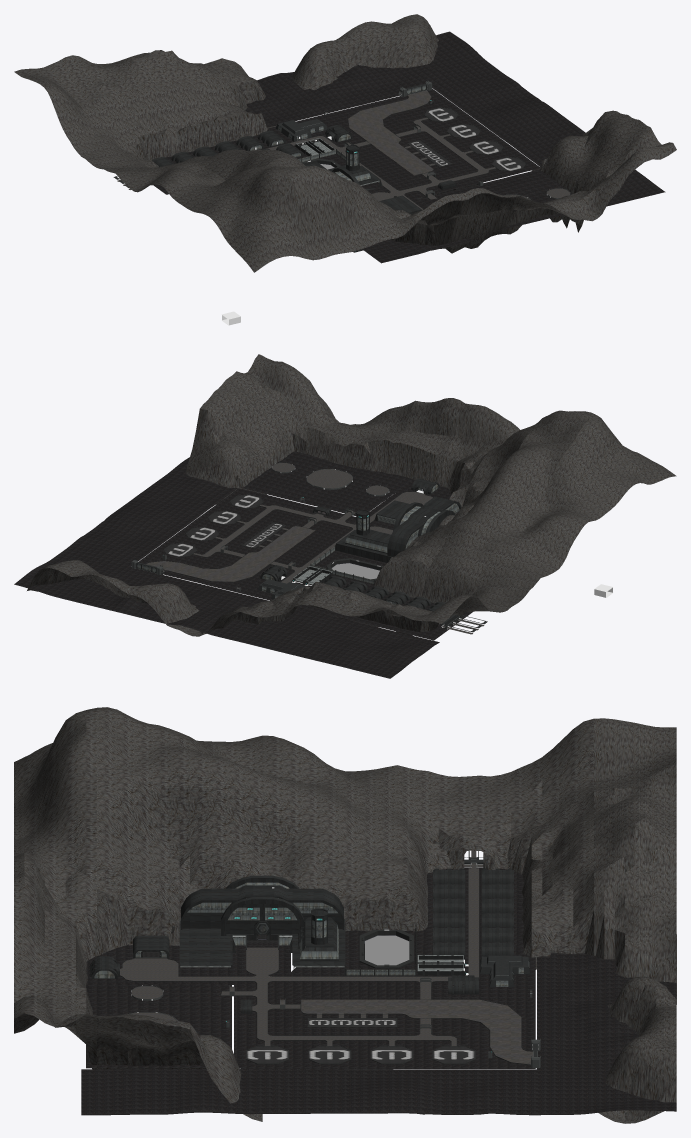
The model's file is Jmap.glb.
3 views of the same model, one above another, from view 1: azimuth 30°, elevation 25°; view 2: azimuth 150°, elevation 25°; view 3: azimuth 270°, elevation 25° (orthographic). The views are drawn at different scales.
Visible parts, largest first — view 1: Object_81, Object_82, Object_77, Object_51, Object_84, Object_22, Object_36, Object_2; view 2: Object_81, Object_82, Object_77, Object_51, Object_84, Object_36, Object_22, Object_2, Object_52; view 3: Object_81, Object_82, Object_51, Object_77, Object_84, Object_36, Object_22, Object_52, Object_2, Object_5, Object_35.
Boxes of the visible parts, <box> form: Object_81: <box>14,14,676,272</box>; Object_82: <box>153,31,665,263</box>; Object_77: <box>117,90,569,209</box>; Object_51: <box>152,125,470,240</box>; Object_84: <box>418,169,572,233</box>; Object_22: <box>408,107,525,170</box>; Object_36: <box>266,90,526,208</box>; Object_2: <box>113,119,427,206</box>; Object_81: <box>27,354,676,636</box>; Object_82: <box>14,457,472,678</box>; Object_77: <box>146,463,484,634</box>; Object_51: <box>260,478,461,625</box>; Object_84: <box>241,451,413,515</box>; Object_36: <box>145,491,432,586</box>; Object_22: <box>164,494,284,556</box>; Object_2: <box>257,510,487,632</box>; Object_52: <box>262,503,459,597</box>; Object_81: <box>14,707,676,1123</box>; Object_82: <box>81,867,676,1115</box>; Object_51: <box>89,862,513,1068</box>; Object_77: <box>120,850,533,1064</box>; Object_84: <box>86,984,231,1068</box>; Object_36: <box>120,870,532,1064</box>; Object_22: <box>247,1018,474,1063</box>; Object_52: <box>187,882,529,986</box>; Object_2: <box>233,850,530,1069</box>; Object_5: <box>365,935,409,965</box>; Object_35: <box>180,859,523,986</box>.
Bounding box in the file's own units: 262 × 91.56 × 251.
88 materials, 35 textured.
